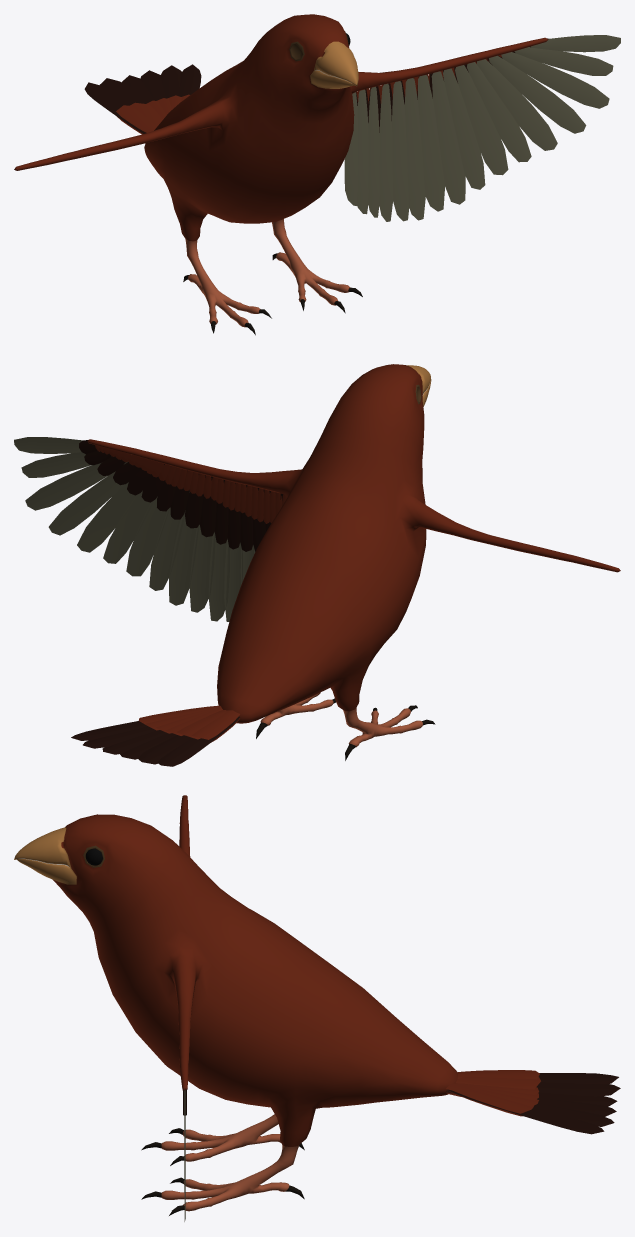
The model's file is finch.obj.
3 views of the same model, one above another, from view 1: azimuth 30°, elevation 25°; view 2: azimuth 150°, elevation 25°; view 3: azimuth 270°, elevation 25° (orthographic). The views are drawn at different scales.
Parts seen in each view (by area): view 1: finch, feather_flight_primary_008, feather_flight_primary_007, feather_flight_primary_010, feather_flight_primary_012, feather_flight_primary_013, feather_flight_primary_006, feather_flight_primary_009, feather_flight_primary_014, feather_flight_primary_011, feather_flight_primary_005, feather_flight_primary_004 (+11 smaller); view 2: finch, feather_flight_primary_013, feather_flight_primary_012, feather_flight_primary_008, feather_flight_primary_010, feather_flight_primary_014, feather_flight_primary_007, feather_flight_primary_009, feather_flight_primary_011, feather_flight_primary_006, feather_flight_primary_015, feather_flight_primary_016 (+8 smaller); view 3: finch, feather_tail_primary_001, feather_tail_primary_005, feather_tail_primary_006, feather_tail_secondary_001, feather_tail_secondary_005, feather_tail_primary_002, feather_tail_primary_003, feather_tail_secondary_006.
Part boxes in pixels (bbox=[...]): finch: bbox=[14, 14, 548, 335]; feather_flight_primary_008: bbox=[431, 71, 465, 204]; feather_flight_primary_007: bbox=[418, 75, 444, 211]; feather_flight_primary_010: bbox=[455, 65, 508, 175]; feather_flight_primary_012: bbox=[477, 59, 557, 150]; feather_flight_primary_013: bbox=[489, 55, 586, 133]; feather_flight_primary_006: bbox=[404, 78, 425, 220]; feather_flight_primary_009: bbox=[443, 68, 485, 189]; feather_flight_primary_014: bbox=[501, 52, 609, 108]; feather_flight_primary_011: bbox=[467, 62, 531, 162]; feather_flight_primary_005: bbox=[392, 81, 409, 221]; feather_flight_primary_004: bbox=[379, 83, 393, 221]; finch: bbox=[87, 364, 620, 760]; feather_flight_primary_013: bbox=[48, 471, 124, 535]; feather_flight_primary_012: bbox=[77, 482, 142, 552]; feather_flight_primary_008: bbox=[169, 492, 199, 605]; feather_flight_primary_010: bbox=[126, 496, 170, 576]; feather_flight_primary_014: bbox=[25, 461, 128, 510]; feather_flight_primary_007: bbox=[189, 524, 215, 612]; feather_flight_primary_009: bbox=[149, 508, 185, 590]; feather_flight_primary_011: bbox=[103, 491, 154, 563]; feather_flight_primary_006: bbox=[208, 533, 230, 621]; feather_flight_primary_015: bbox=[21, 452, 91, 477]; feather_flight_primary_016: bbox=[14, 437, 83, 453]; finch: bbox=[14, 795, 458, 1215]; feather_tail_primary_001: bbox=[447, 1089, 604, 1134]; feather_tail_primary_005: bbox=[536, 1082, 620, 1096]; feather_tail_primary_006: bbox=[538, 1073, 618, 1084]; feather_tail_secondary_001: bbox=[447, 1083, 533, 1113]; feather_tail_secondary_005: bbox=[456, 1076, 540, 1089]; feather_tail_primary_002: bbox=[446, 1090, 614, 1126]; feather_tail_primary_003: bbox=[446, 1091, 616, 1116]; feather_tail_secondary_006: bbox=[457, 1070, 539, 1079].
Bounding box in the file's own units: 0.2297 × 0.1139 × 0.1763.
